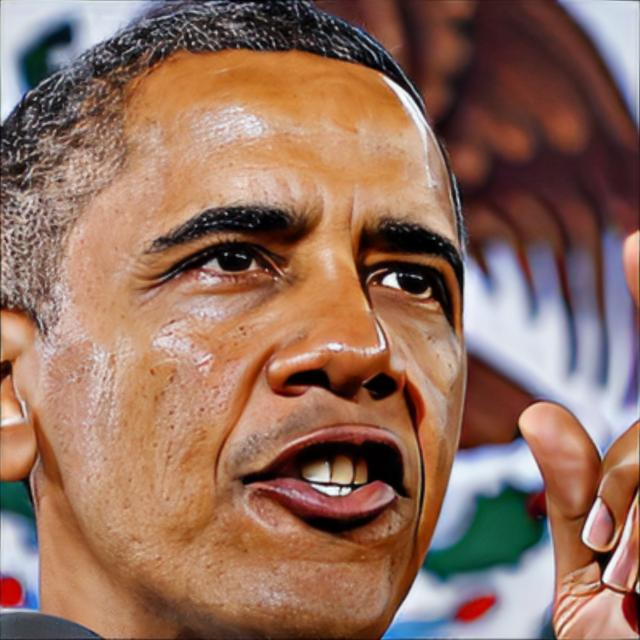anger: (87, 60, 476, 640)
